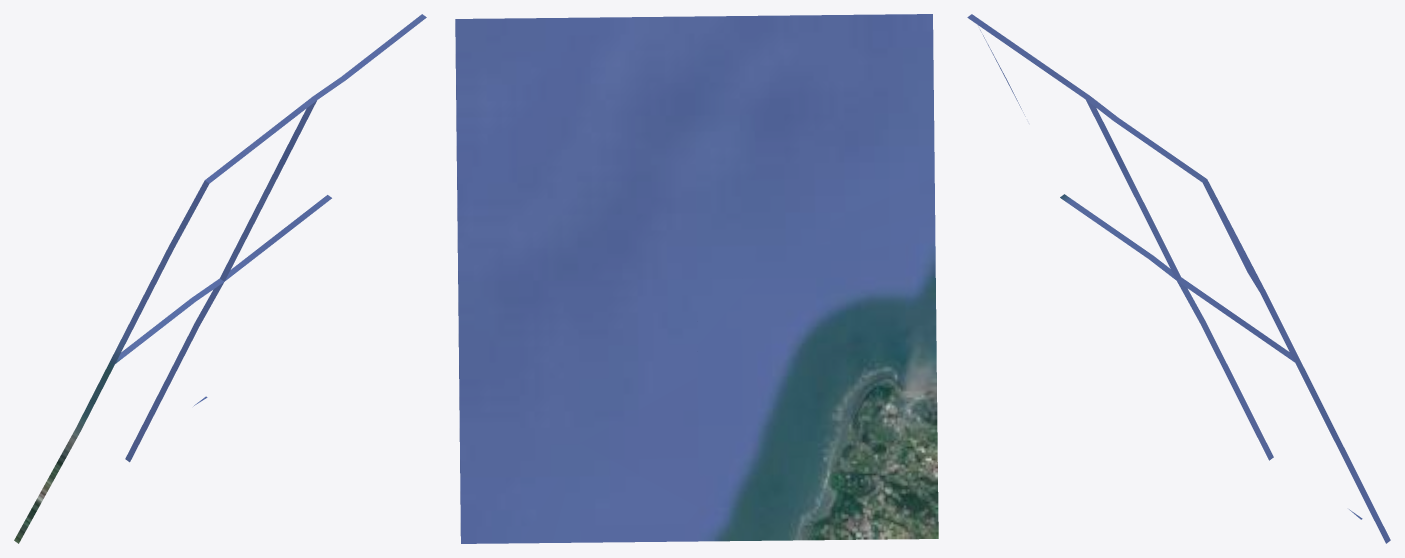
The picture shows the model from 3 angles, left to right: view 1: azimuth 30°, elevation 25°; view 2: azimuth 150°, elevation 25°; view 3: azimuth 270°, elevation 25°; orthographic projection. The views are drawn at different scales.
Bounding box in the file's own units: 9885 × 8881 × 8280.
Materials: 1 (1 with a texture image).
